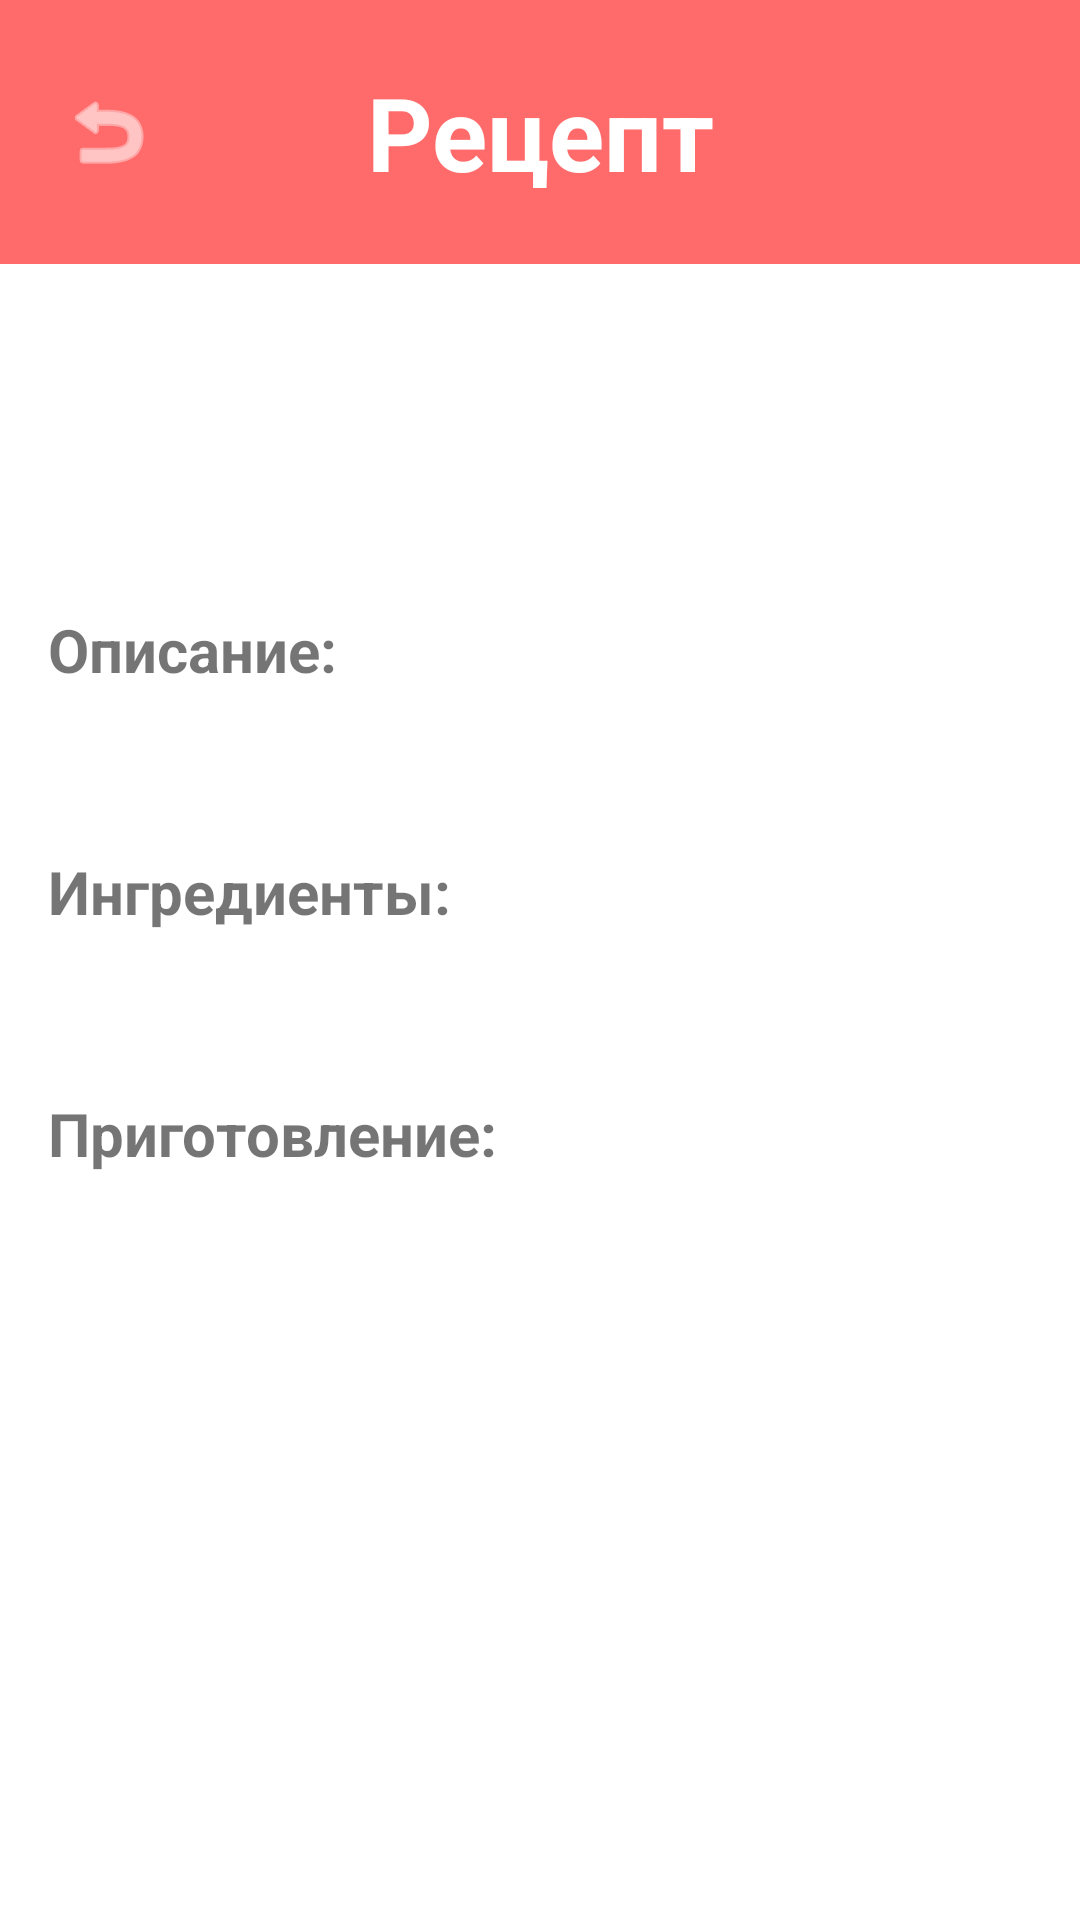

Where icons sit on this 1080 × 1920 app screen, as (x1, y1, x2, y2):
Назад: (75, 102, 144, 164)
